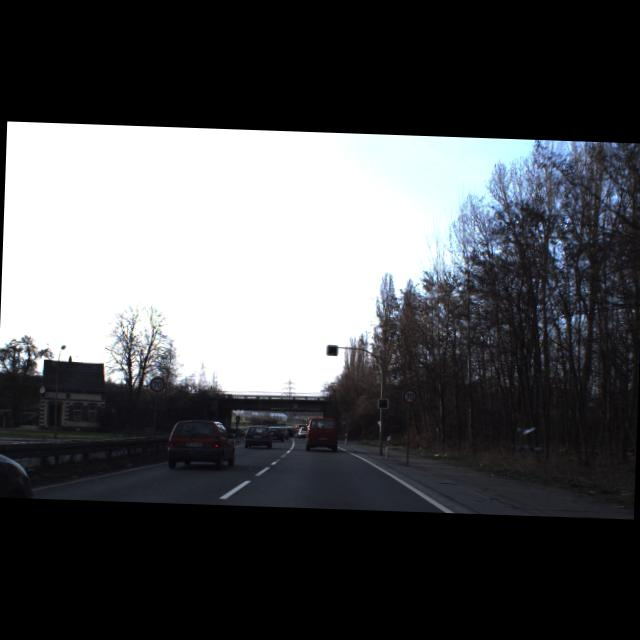prohibitory: (148, 376, 165, 393), (401, 388, 418, 404)
